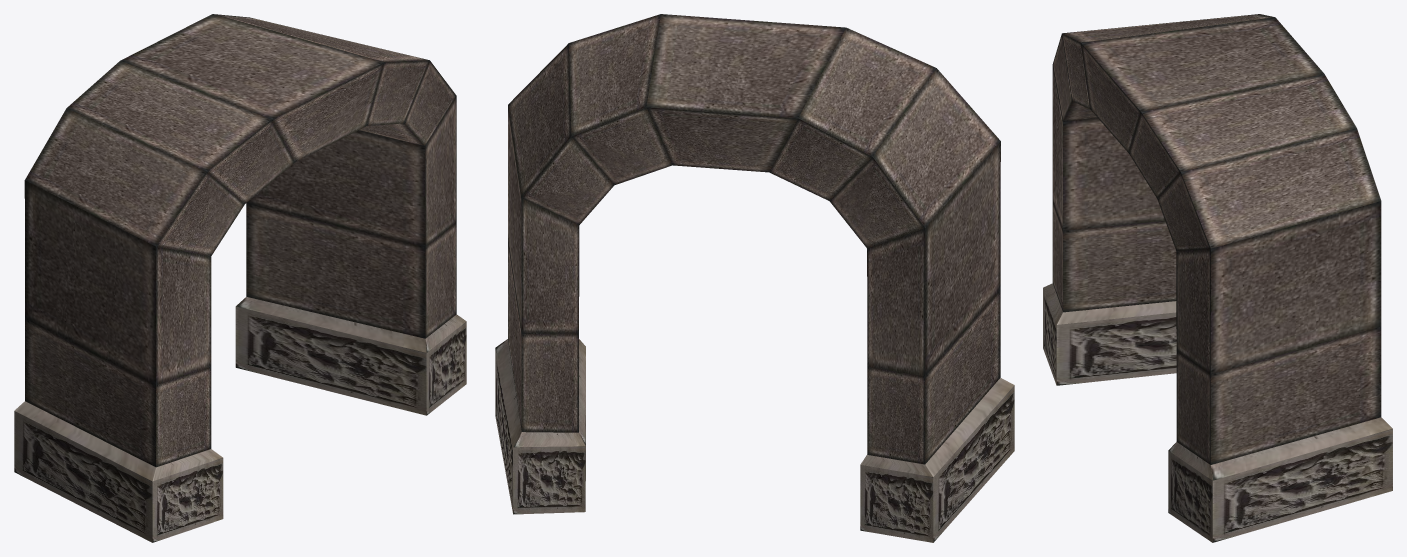
Rendered from doorx30.obj.
3 renders of one model, left to right at view 1: azimuth 30°, elevation 25°; view 2: azimuth 150°, elevation 25°; view 3: azimuth 270°, elevation 25°, orthographic. The views are drawn at different scales.
Visible parts, largest first — view 1: doorx30; view 2: doorx30; view 3: doorx30.
Part boxes in pixels (x1,y1,x2,y2): doorx30: (14,14,466,542); doorx30: (495,14,1014,542); doorx30: (1043,14,1392,542).
Size of the model in its own units: 157 by 131 by 112.
